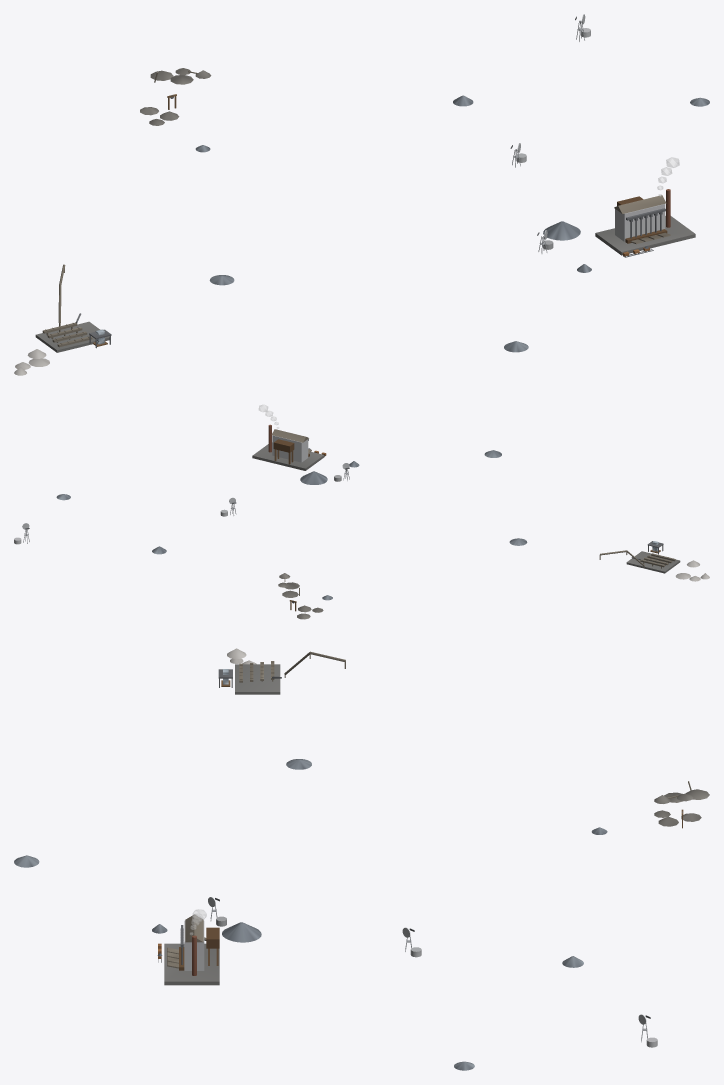
The model's file is Theme_P3.fbx.
3 renders of one model, top to bottom at view 1: azimuth 30°, elevation 25°; view 2: azimuth 150°, elevation 25°; view 3: azimuth 270°, elevation 25°, orthographic. The views are drawn at different scales.
Visible parts, largest first — view 1: Theme.StampMill, Theme.Sluices, Theme.Diggings; view 2: Theme.StampMill, Theme.Sluices, Theme.Diggings; view 3: Theme.StampMill, Theme.Sluices, Theme.Diggings.
Boxes of the visible parts, left/top/right/bottom form: Theme.StampMill: left=595, top=189, right=695, bottom=255; Theme.Sluices: left=35, top=313, right=109, bottom=352; Theme.Diggings: left=140, top=68, right=211, bottom=125; Theme.StampMill: left=252, top=424, right=324, bottom=470; Theme.Sluices: left=626, top=551, right=680, bottom=573; Theme.Diggings: left=278, top=573, right=323, bottom=619; Theme.StampMill: left=164, top=915, right=219, bottom=985; Theme.Sluices: left=235, top=661, right=281, bottom=694; Theme.Diggings: left=654, top=781, right=709, bottom=828.
Bounding box in the file's own units: 38903 × 3464 × 27802.
